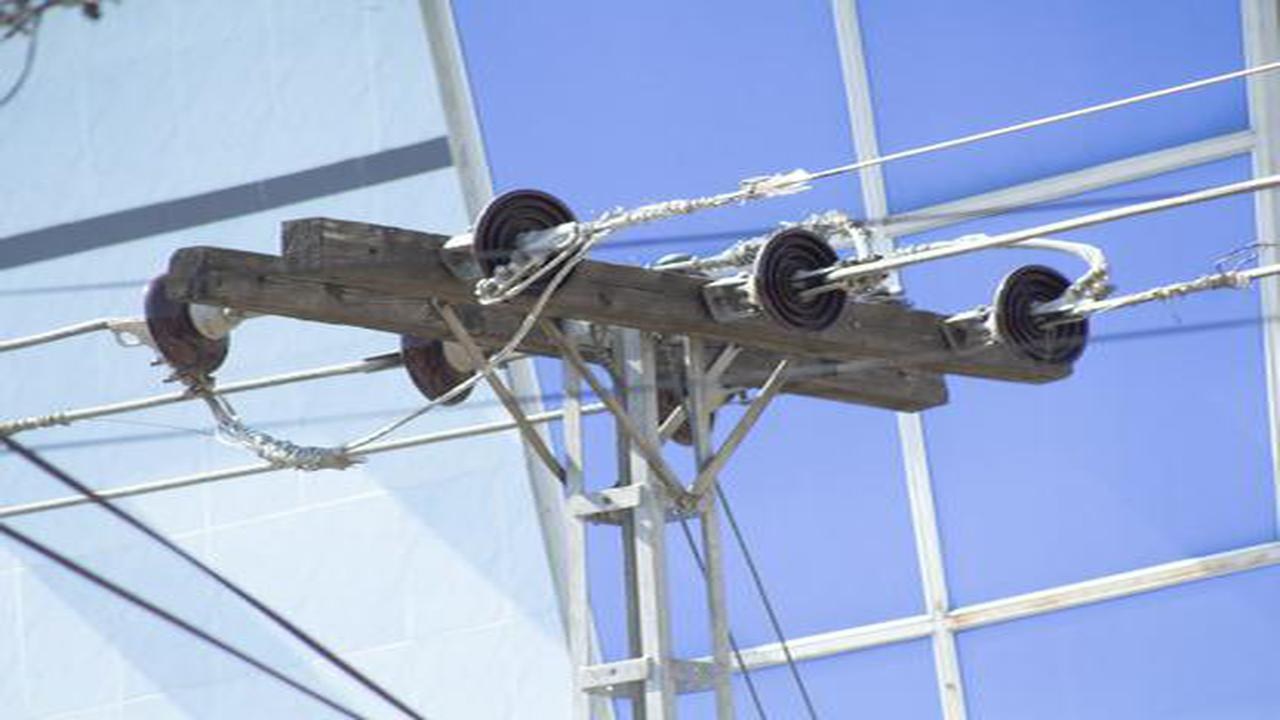insulator_disc: (469, 186, 589, 306), (987, 267, 1095, 374), (754, 227, 855, 334), (142, 281, 234, 372), (396, 330, 483, 408)
